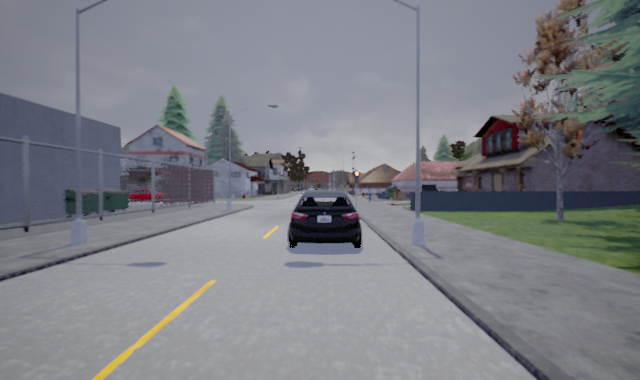vehicle: (286, 189, 361, 249)
